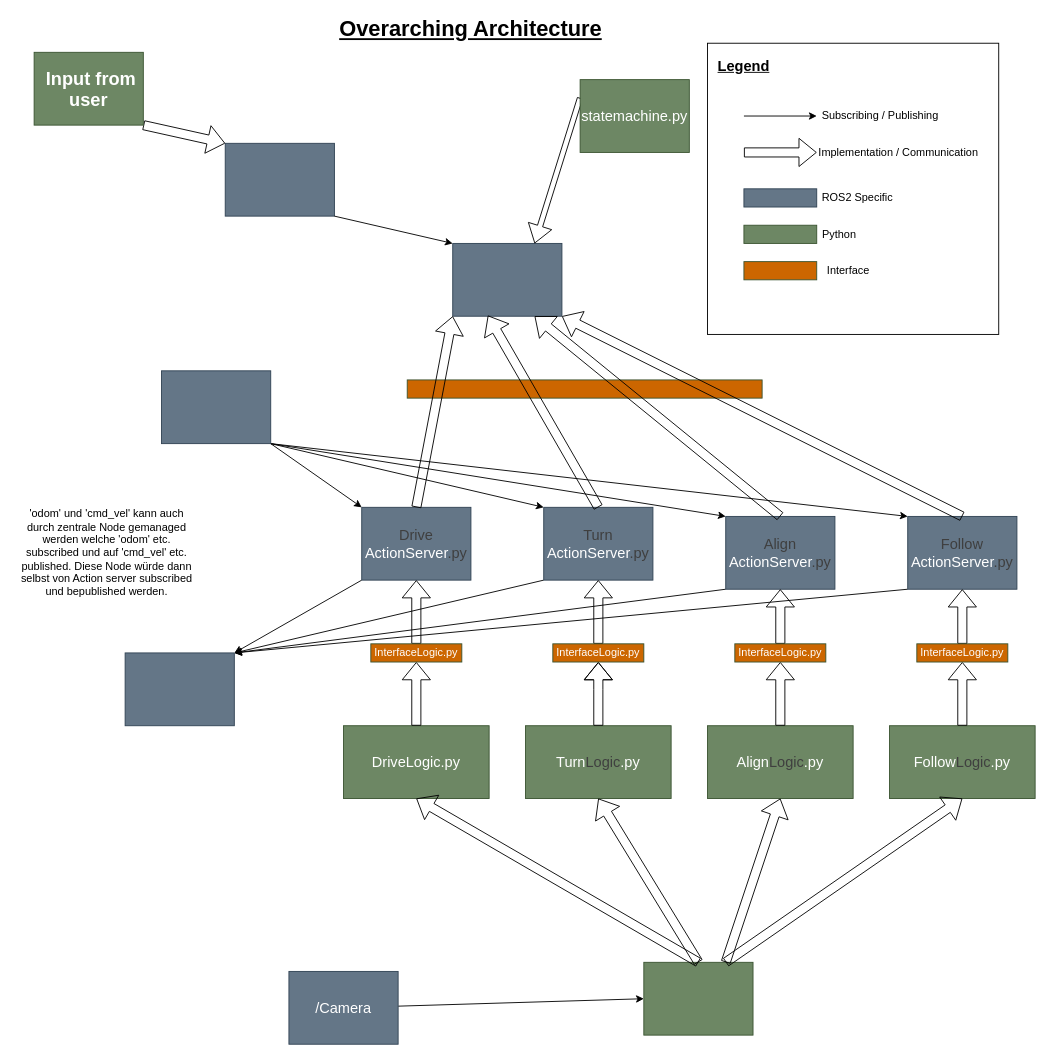
Image size: 1051x1060. Some labels were removed from this diagram. Here are the shapes that lost their labels. From the top down, the centre of each, then its label:
At point 279,179: "ActionClient.py".
At point 507,279: "Handler ActionServer.py".
At point 216,407: "/odom".
At point 584,388: "InterfaceActionServer".
At point 179,689: "/cmd_vel".
At point 698,998: "MachineVison.py".
